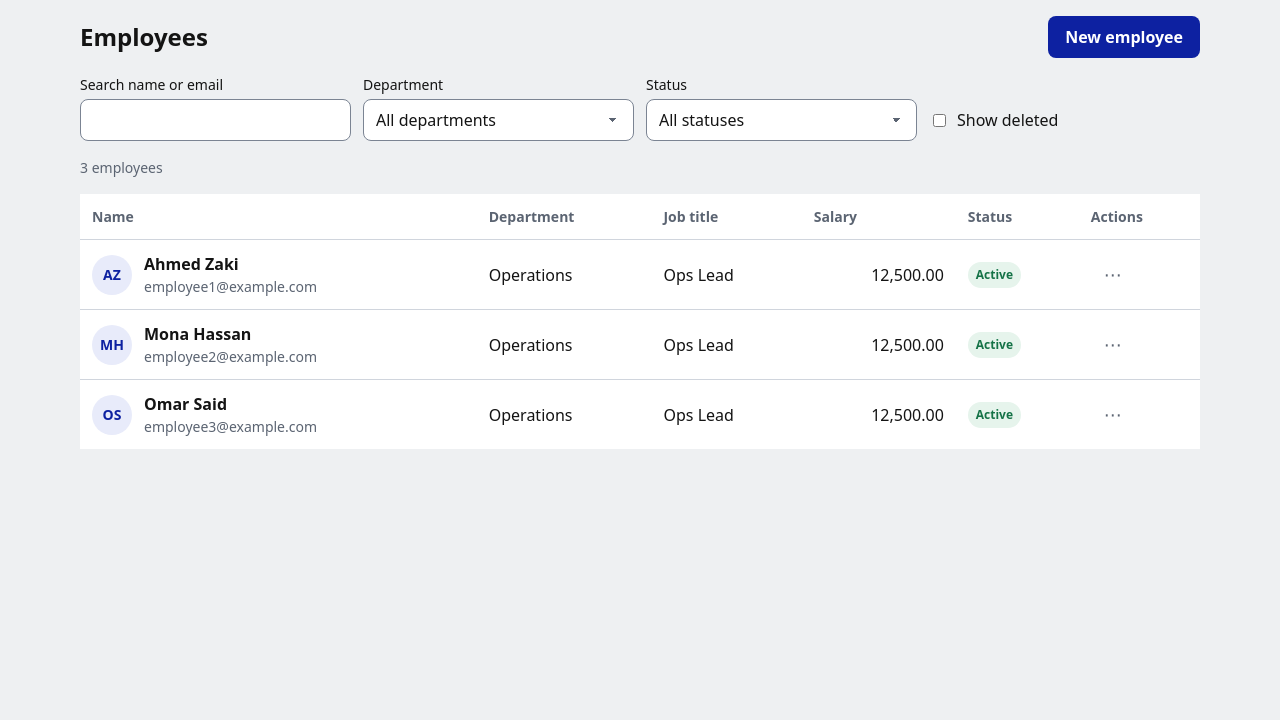
Test case: Employee delete - dialog (edge case 2) › opens a dialog titled "Delete <fullName>?" with the hidden-from-list text
This screenshot has width=1280, height=720.
Expected: the table is shown, [80,194,1200,449]
Step 1. Click the button named "Actions for Ahmed Zaki" → x=1113, y=274, box [1091,256,1135,293]
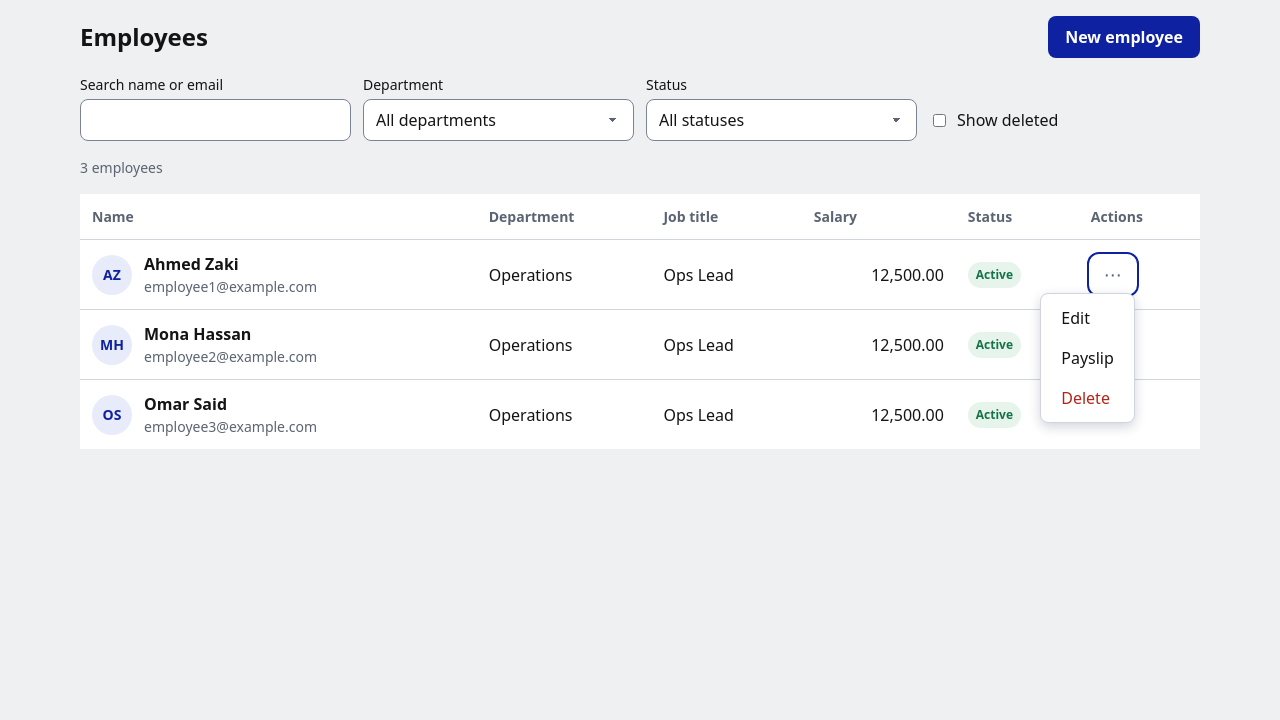
Step 2. Click the menu item "Delete" → x=1088, y=398, box [1045,378,1130,418]
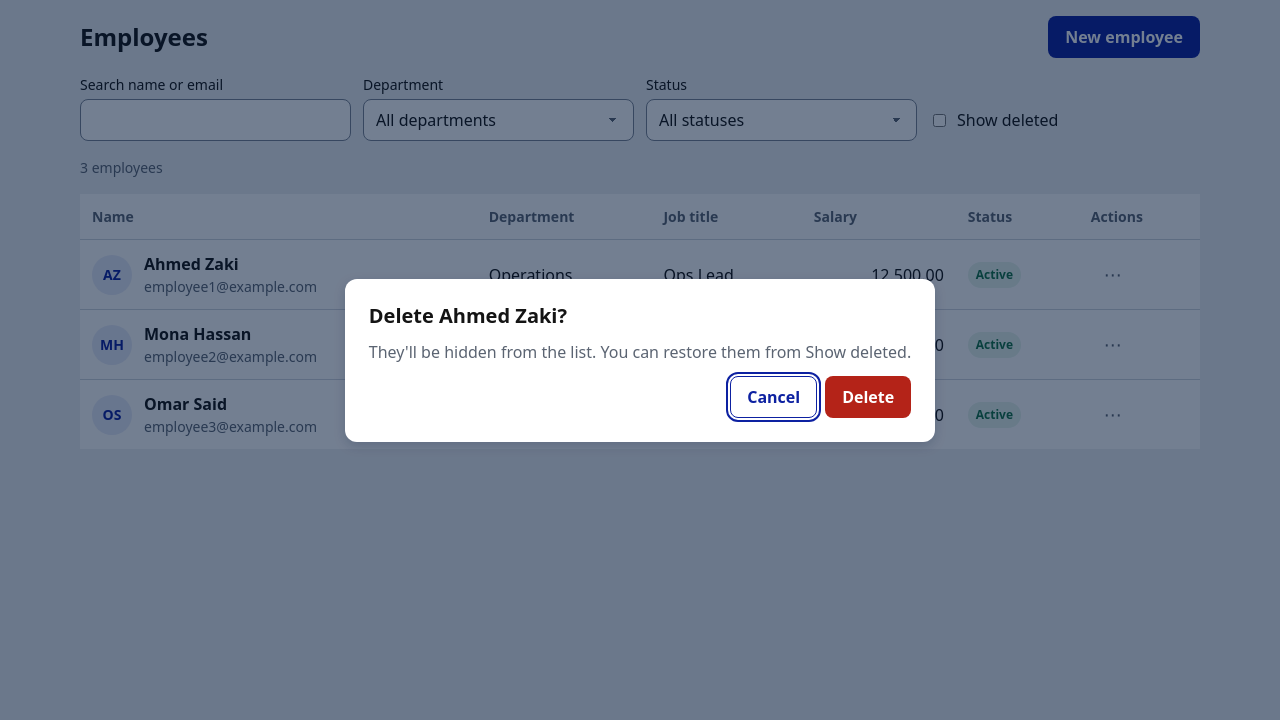
Now the dialog is shown, box [345,278,935,442]
Now the text "They'll be hidden from the list. You can restore them from Show deleted." is shown, box [369,340,911,364]
